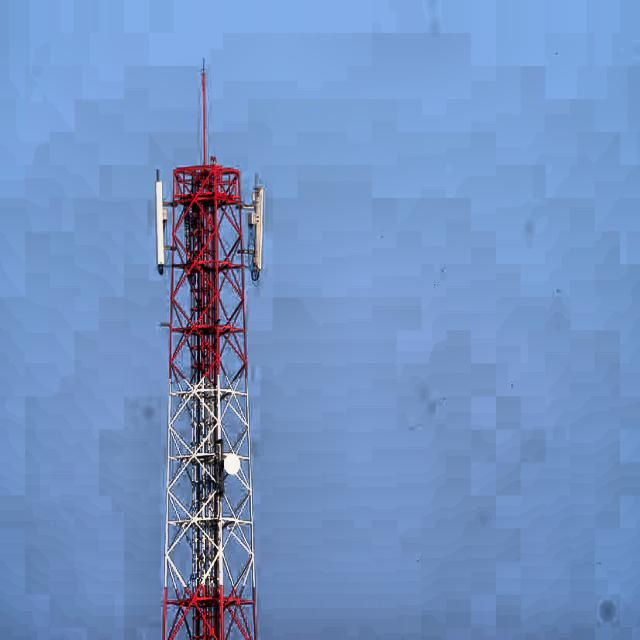antenna: (249, 184, 264, 281), (155, 170, 166, 274)
